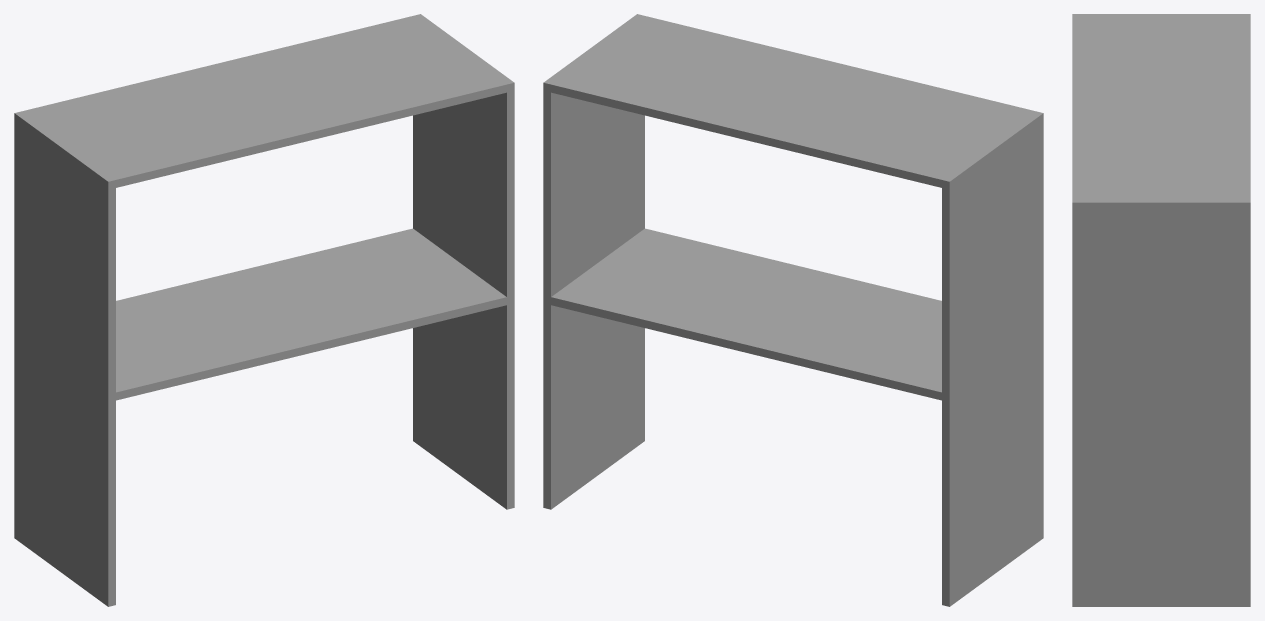
File: meuble_68fb437a9728e.glb
The picture shows the model from 3 angles, left to right: view 1: azimuth 30°, elevation 25°; view 2: azimuth 150°, elevation 25°; view 3: azimuth 270°, elevation 25°; orthographic projection. The views are drawn at different scales.
Parts seen in each view (by area): view 1: world; view 2: world; view 3: world.
Boxes of the visible parts, left/top/right/bottom form: world: left=14, top=14, right=514, bottom=606; world: left=543, top=14, right=1043, bottom=606; world: left=1072, top=14, right=1250, bottom=606.
Size of the model in its own units: 1 by 1 by 0.4.
Materials: 1 (1 with a texture image).
